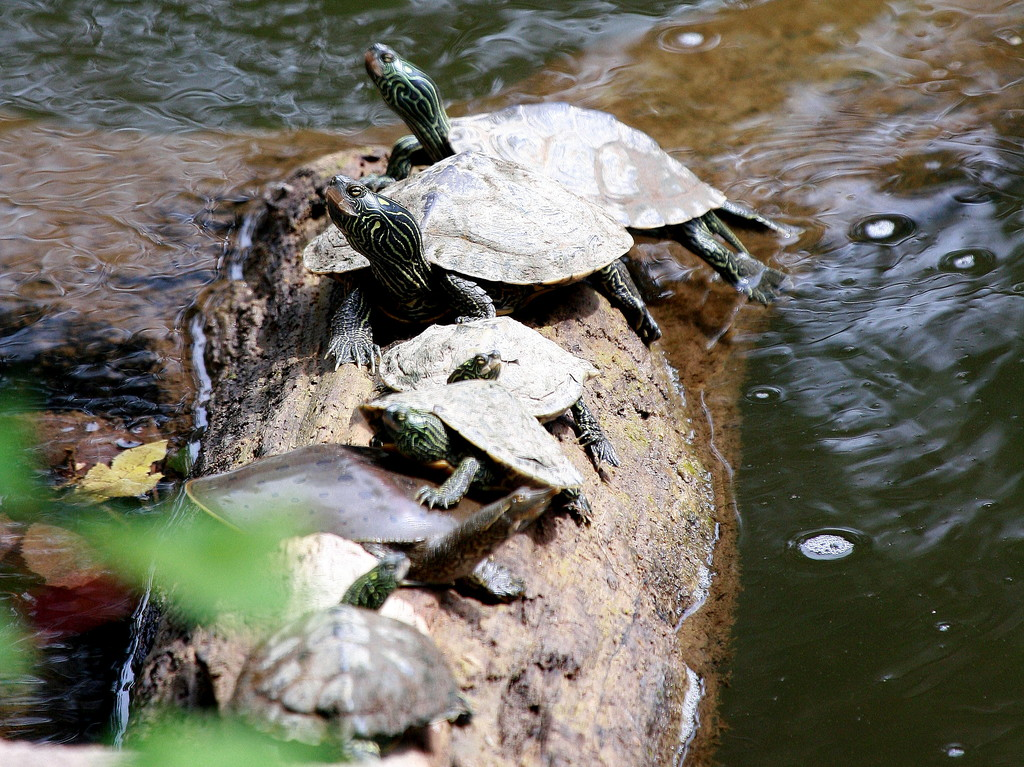Sea turtles: (174, 39, 797, 766)
